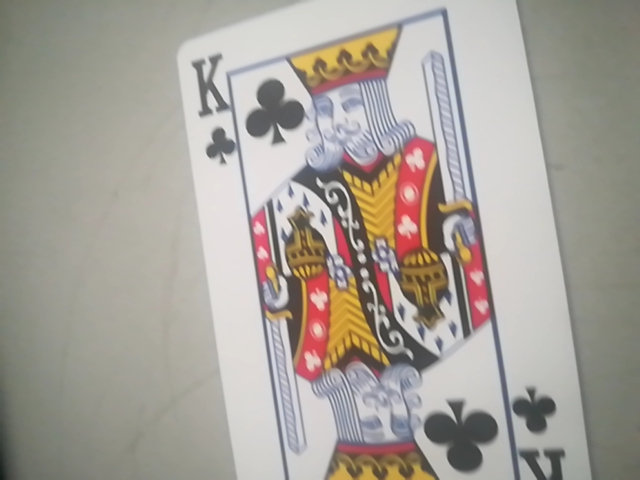mh k: (165, 13, 587, 480)
